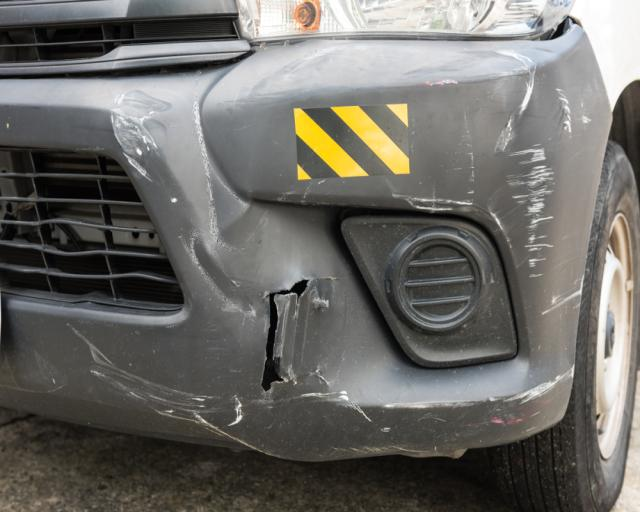crack: (260, 277, 314, 393)
scratch: (382, 48, 592, 316), (72, 323, 373, 456), (106, 88, 175, 182), (486, 365, 574, 429)
